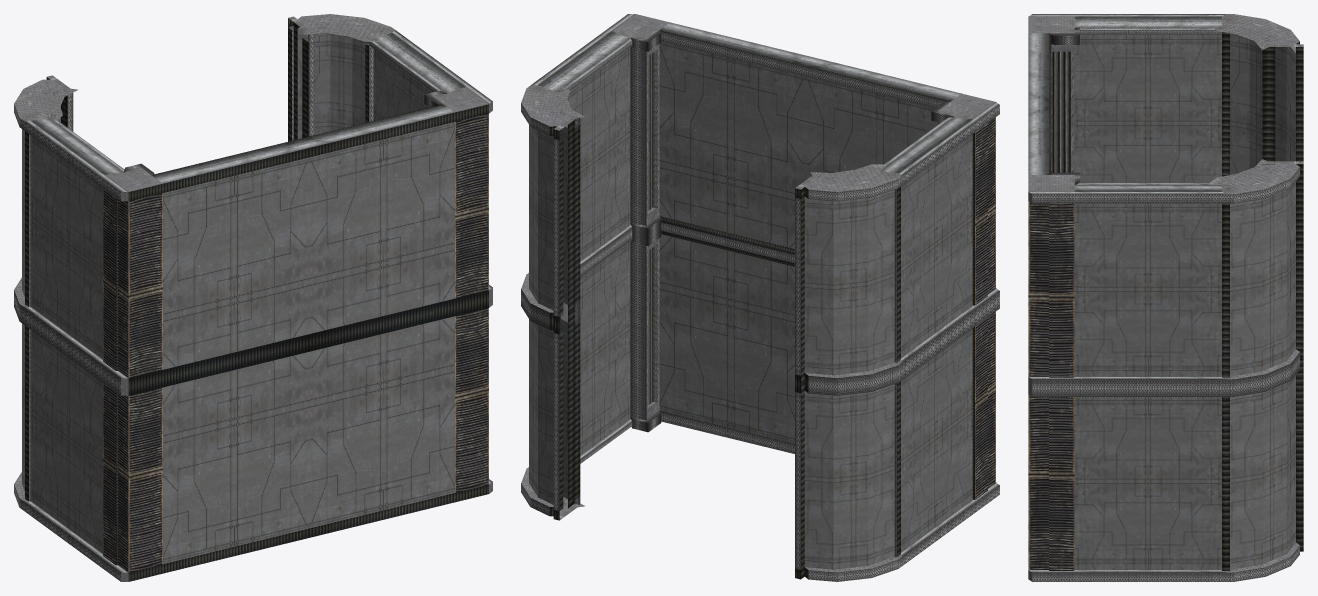
File: Window.fbx
3 renders of one model, left to right at view 1: azimuth 30°, elevation 25°; view 2: azimuth 150°, elevation 25°; view 3: azimuth 270°, elevation 25°, orthographic.
Visible parts, largest first — view 1: Cube_002; view 2: Cube_002; view 3: Cube_002.
Part boxes in pixels (x1,y1,x2,y2): Cube_002: (14,14,492,581); Cube_002: (521,14,999,581); Cube_002: (1028,14,1303,581).
Size of the model in its own units: 826 by 827 by 533.
